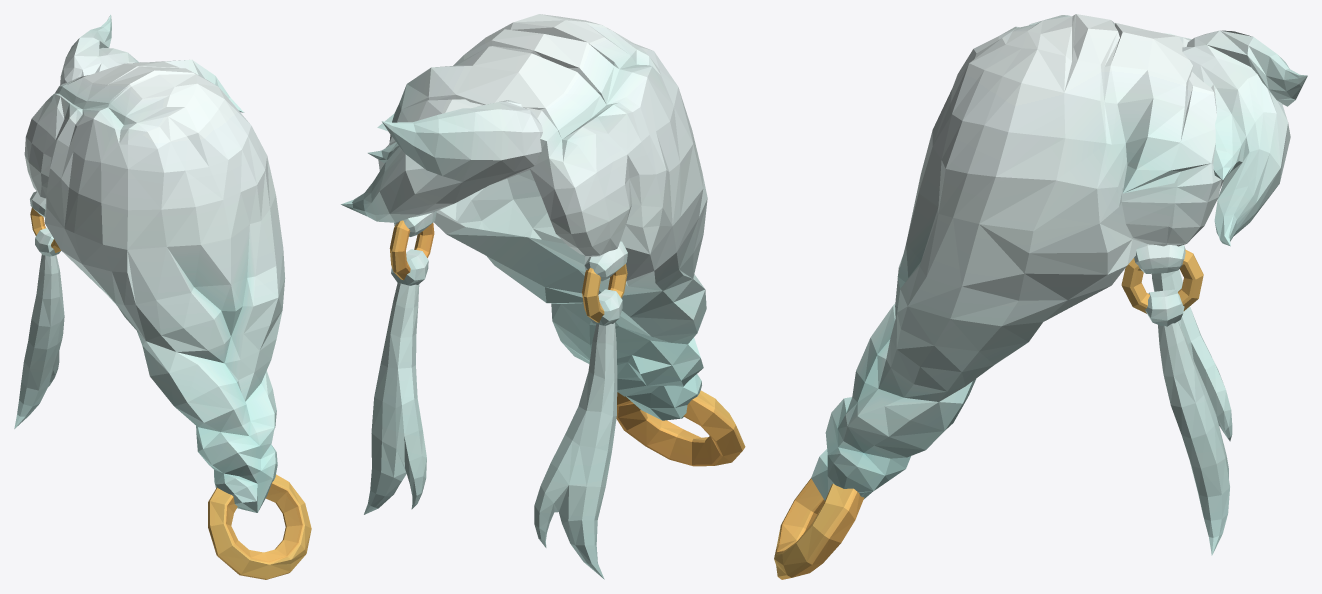
The model's file is CharSkyKid_Hair_AP16Wind.glb.
3 views of the same model, side by side, from view 1: azimuth 30°, elevation 25°; view 2: azimuth 150°, elevation 25°; view 3: azimuth 270°, elevation 25° (orthographic). The views are drawn at different scales.
Visible parts, largest first — view 1: CharSkyKid_Hair_AP16Wind; view 2: CharSkyKid_Hair_AP16Wind; view 3: CharSkyKid_Hair_AP16Wind.
Boxes of the visible parts, box(x1,y1,x2,y2) form: CharSkyKid_Hair_AP16Wind: box(14, 14, 311, 579); CharSkyKid_Hair_AP16Wind: box(341, 14, 745, 579); CharSkyKid_Hair_AP16Wind: box(774, 14, 1307, 579).
Bounding box in the file's own units: 3.04 × 6 × 5.34.
Materials: 1 (1 with a texture image).
